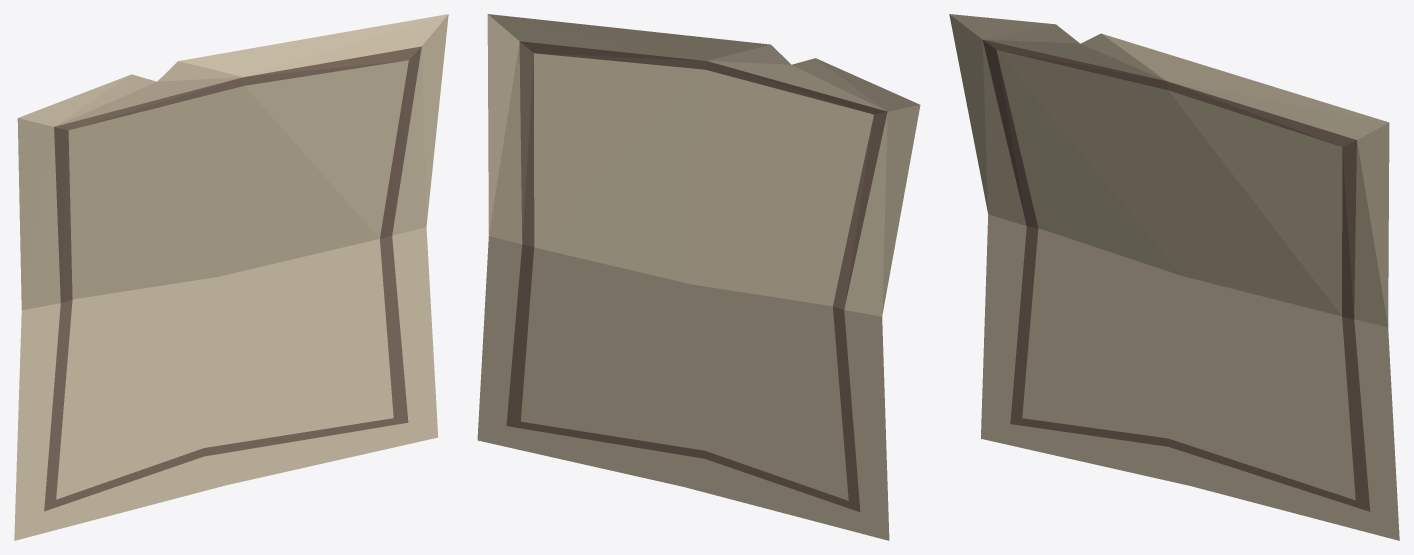
The model's file is SFHW_Paper_010.fbx.
3 renders of one model, left to right at view 1: azimuth 30°, elevation 25°; view 2: azimuth 150°, elevation 25°; view 3: azimuth 330°, elevation 25°, orthographic. The views are drawn at different scales.
Parts seen in each view (by area): view 1: SFHW_Paper_010; view 2: SFHW_Paper_010; view 3: SFHW_Paper_010.
Boxes of the visible parts, box(x1,y1,x2,y2) form: SFHW_Paper_010: box(14, 14, 448, 540); SFHW_Paper_010: box(477, 14, 920, 540); SFHW_Paper_010: box(949, 14, 1399, 540).
Size of the model in its own units: 6.81 by 6.84 by 0.5694.
